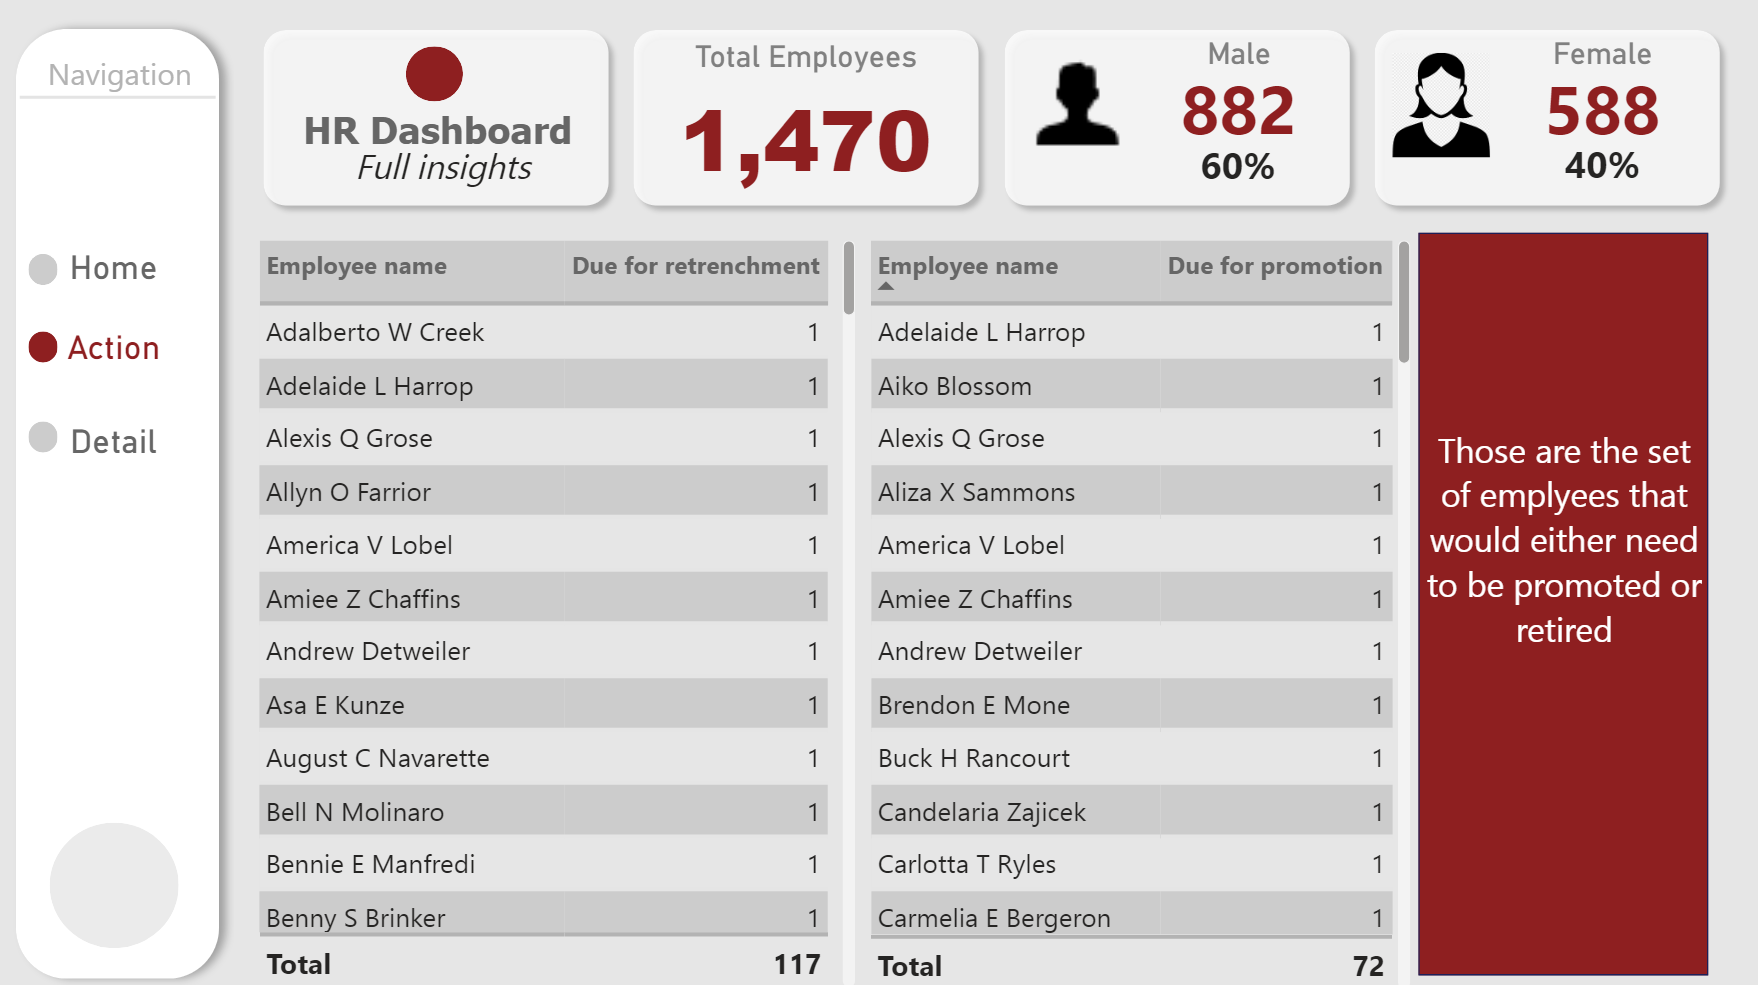

The dashboard page shown, as its layout file describes it:
{"tool":"powerbi","page":{"name":"Action","canvas":[1280,720],"ordinal":2},"visuals":[{"type":"shape","box":[1028.6,166.2,207,530.1],"z":0},{"type":"shape","box":[16.5,9.6,166.5,699.2],"z":1000},{"type":"shape","box":[195.4,12.4,264.3,143.1],"z":2000},{"type":"shape","box":[459.7,12.4,264.3,143.1],"z":3000},{"type":"shape","box":[724,12.4,264.3,143.1],"z":4000},{"type":"shape","box":[988.2,12.4,264.3,143.1],"z":5000},{"type":"textbox","box":[209.7,71.2,238.7,51.4],"z":6000},{"type":"textbox","box":[36.9,33,130.5,51.4],"z":7000},{"type":"textbox","box":[209.7,97.6,251.9,55.4],"z":8000},{"type":"shape","box":[305.9,33,40.9,39.6],"z":9000},{"type":"card","title":"Total Employees","fields":{"Values":["All Measures.Total Emp"]},"box":[468,27.5,246.4,112.9],"z":10000},{"type":"card","title":"Male","fields":{"Values":["All Measures.Male"]},"box":[814.8,26.2,170.7,75.7],"z":11000},{"type":"card","fields":{"Values":["All Measures.Male %"]},"box":[834.1,90.8,132.1,55.1],"z":12000},{"type":"card","title":"Female","fields":{"Values":["All Measures.Female"]},"box":[1068.7,26.2,183.1,75.7],"z":13000},{"type":"card","fields":{"Values":["All Measures.Female %"]},"box":[1083.9,90.8,152.8,53.7],"z":14000},{"type":"image","box":[736.3,26.2,95,90.8],"z":15000},{"type":"image","box":[1004.7,33,79.8,84],"z":16000},{"type":"tableEx","fields":{"Values":["HR employee data.Emplyee name","All Measures.Due for retirment"]},"box":[195.4,166.5,436.3,542.3],"z":17000},{"type":"tableEx","fields":{"Values":["HR employee data.Emplyee name","All Measures.Due for promotion"]},"box":[631.7,166.5,396.4,543.7],"z":18000},{"type":"textbox","box":[1029.3,299.6,206.6,217.4],"z":19000},{"type":"shape","box":[36.9,300.7,21.1,22.4],"z":20000},{"type":"actionButton","title":"Detail","box":[27.7,300.7,139.8,58],"z":21000},{"type":"shape","box":[36.9,236,21.1,22.4],"z":22000},{"type":"actionButton","title":"Action","box":[27.7,233.4,139.8,65.9],"z":23000},{"type":"shape","box":[36.9,180.7,21.1,22.4],"z":24000},{"type":"actionButton","title":"Home","box":[27.7,176.7,139.8,56.7],"z":25000},{"type":"shape","box":[51.4,586.8,92.3,89.7],"z":26000},{"type":"shape","box":[30.2,61.6,140.1,15.7],"z":27000}]}

Visuals, with their boxes in screenshot pixels (x1, y1, x2, y2), scaled from the page's 1280x720 canvas onto the 1758x985 screenshot:
shape: locate(1413, 227, 1697, 953)
shape: locate(23, 13, 251, 970)
shape: locate(268, 17, 631, 213)
shape: locate(631, 17, 994, 213)
shape: locate(994, 17, 1357, 213)
shape: locate(1357, 17, 1720, 213)
textbox: locate(288, 97, 616, 168)
textbox: locate(51, 45, 230, 115)
textbox: locate(288, 134, 634, 209)
shape: locate(420, 45, 476, 99)
"Total Employees" card: locate(643, 38, 981, 192)
"Male" card: locate(1119, 36, 1354, 139)
card - All Measures.Male %: locate(1146, 124, 1327, 200)
"Female" card: locate(1468, 36, 1719, 139)
card - All Measures.Female %: locate(1489, 124, 1699, 198)
image: locate(1011, 36, 1142, 160)
image: locate(1380, 45, 1489, 160)
tableEx - HR employee data.Emplyee name x All Measures.Due for retirment: locate(268, 228, 868, 970)
tableEx - HR employee data.Emplyee name x All Measures.Due for promotion: locate(868, 228, 1412, 972)
textbox: locate(1414, 410, 1697, 707)
shape: locate(51, 411, 80, 442)
"Detail" actionButton: locate(38, 411, 230, 491)
shape: locate(51, 323, 80, 354)
"Action" actionButton: locate(38, 319, 230, 409)
shape: locate(51, 247, 80, 278)
"Home" actionButton: locate(38, 242, 230, 319)
shape: locate(71, 803, 197, 925)
shape: locate(41, 84, 234, 106)
